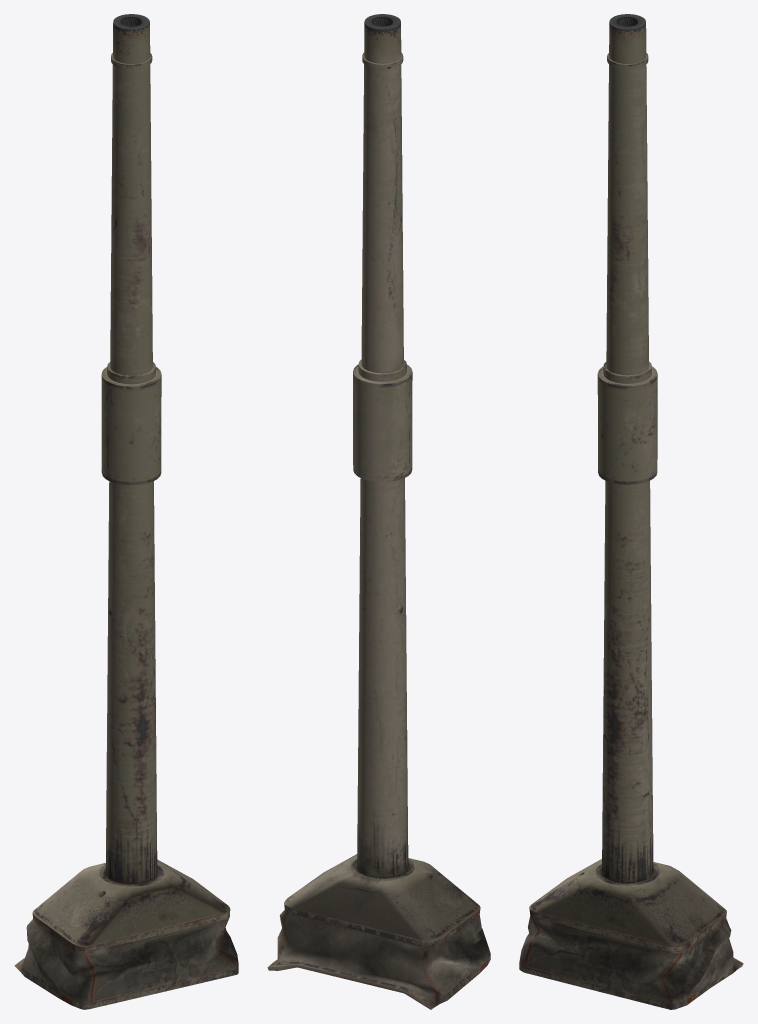
File: Gun_01.glb
The picture shows the model from 3 angles, left to right: view 1: azimuth 30°, elevation 25°; view 2: azimuth 150°, elevation 25°; view 3: azimuth 330°, elevation 25°; orthographic projection.
Parts seen in each view (by area): view 1: set_0_group_0; view 2: set_0_group_0; view 3: set_0_group_0.
Boxes of the visible parts, x1=… form: set_0_group_0: x1=14, y1=14, x2=238, y2=1009; set_0_group_0: x1=267, y1=14, x2=490, y2=1009; set_0_group_0: x1=519, y1=14, x2=743, y2=1009.
Bounding box in the file's own units: 1.18 × 6.03 × 0.7643.
1 material, 1 textured.
